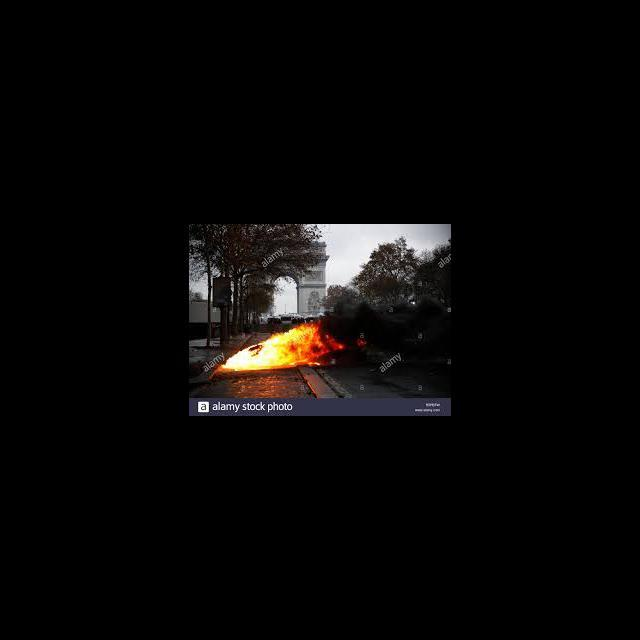Fire: (219, 318, 346, 371), (352, 338, 368, 347)
